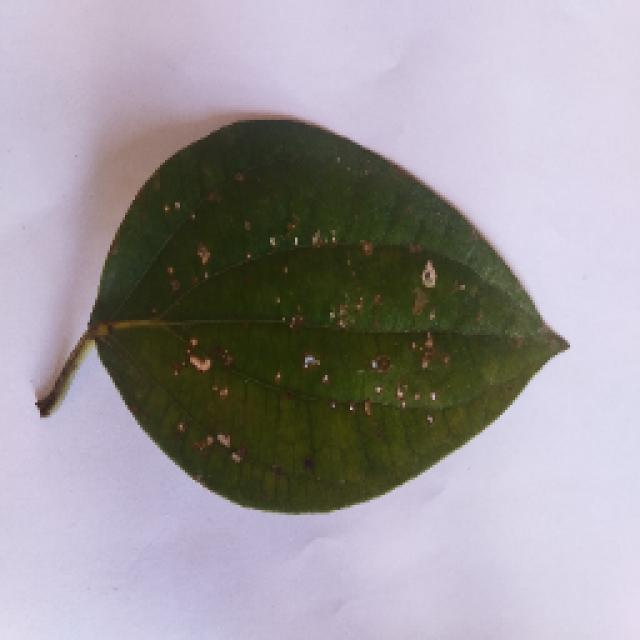pollu-disease: (15, 110, 567, 512)
